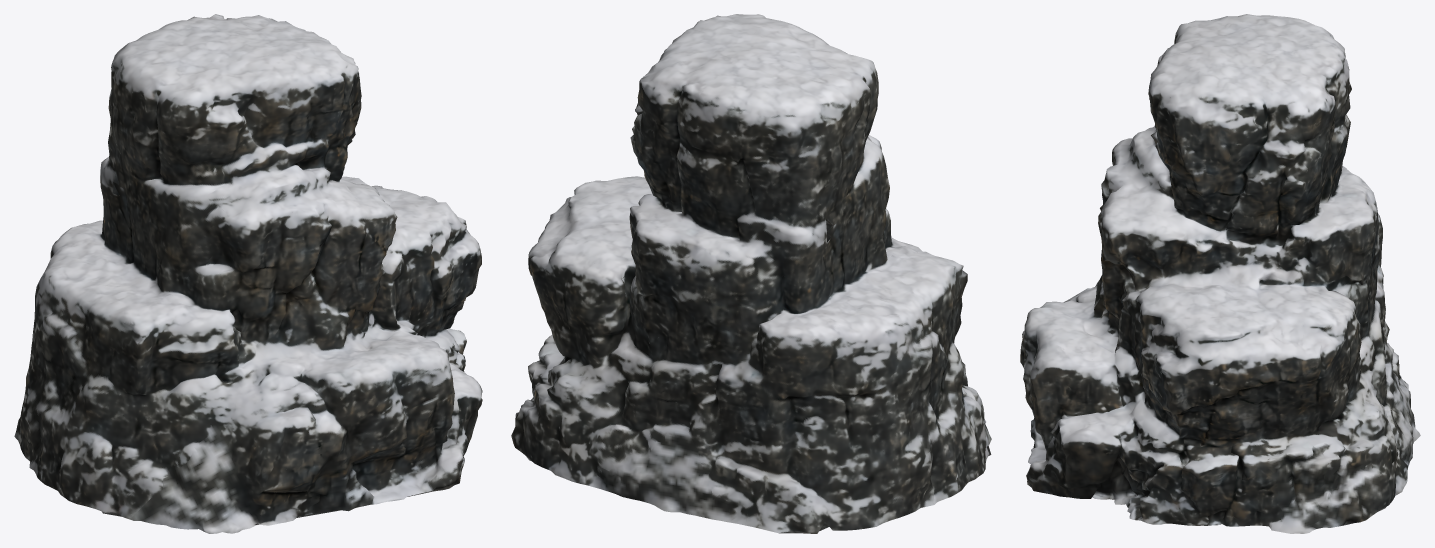
Rendered from frost_2.glb.
3 views of the same model, side by side, from view 1: azimuth 30°, elevation 25°; view 2: azimuth 150°, elevation 25°; view 3: azimuth 270°, elevation 25° (orthographic). The views are drawn at different scales.
Parts seen in each view (by area): view 1: geometry_0; view 2: geometry_0; view 3: geometry_0.
Boxes of the visible parts, x1=… form: geometry_0: x1=14, y1=14, x2=482, y2=533; geometry_0: x1=511, y1=14, x2=991, y2=533; geometry_0: x1=1020, y1=14, x2=1420, y2=533.
Size of the model in its own units: 0.959 by 0.8789 by 0.8262.
1 material, 1 textured.
